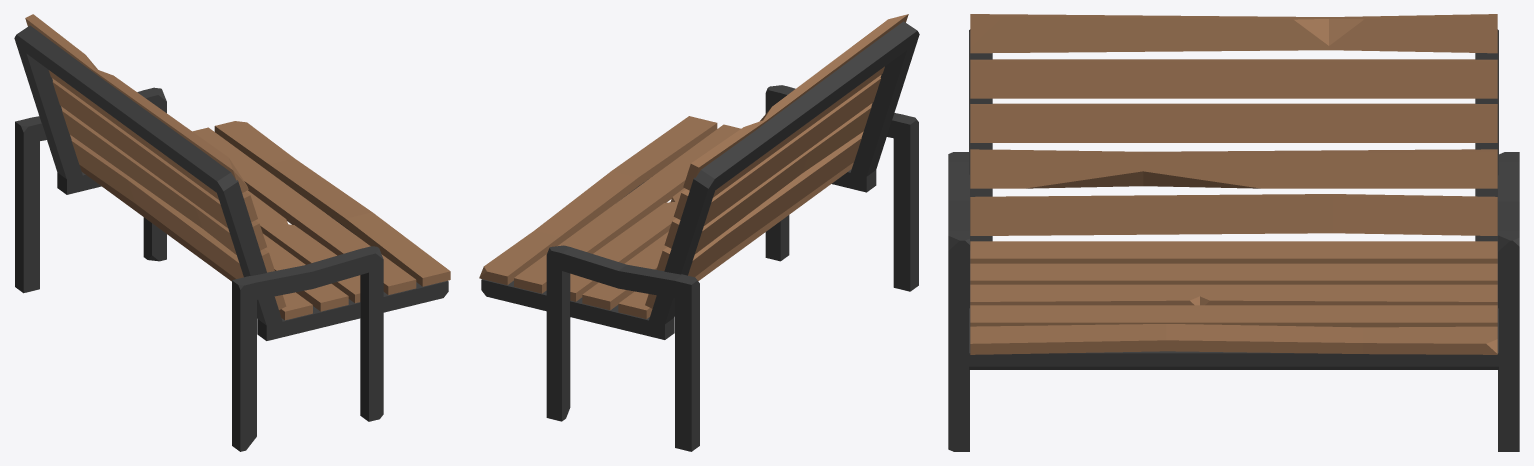
Rendered from Park Bench.glb.
3 views of the same model, side by side, from view 1: azimuth 30°, elevation 25°; view 2: azimuth 150°, elevation 25°; view 3: azimuth 270°, elevation 25° (orthographic). The views are drawn at different scales.
Parts seen in each view (by area): view 1: Park_Bench_Cube; view 2: Park_Bench_Cube; view 3: Park_Bench_Cube.
Boxes of the visible parts, bbox=[...] form: Park_Bench_Cube: bbox=[14, 14, 450, 451]; Park_Bench_Cube: bbox=[479, 14, 919, 451]; Park_Bench_Cube: bbox=[948, 14, 1519, 451].
Bounding box in the file's own units: 1.84 × 2.13 × 3.13.
